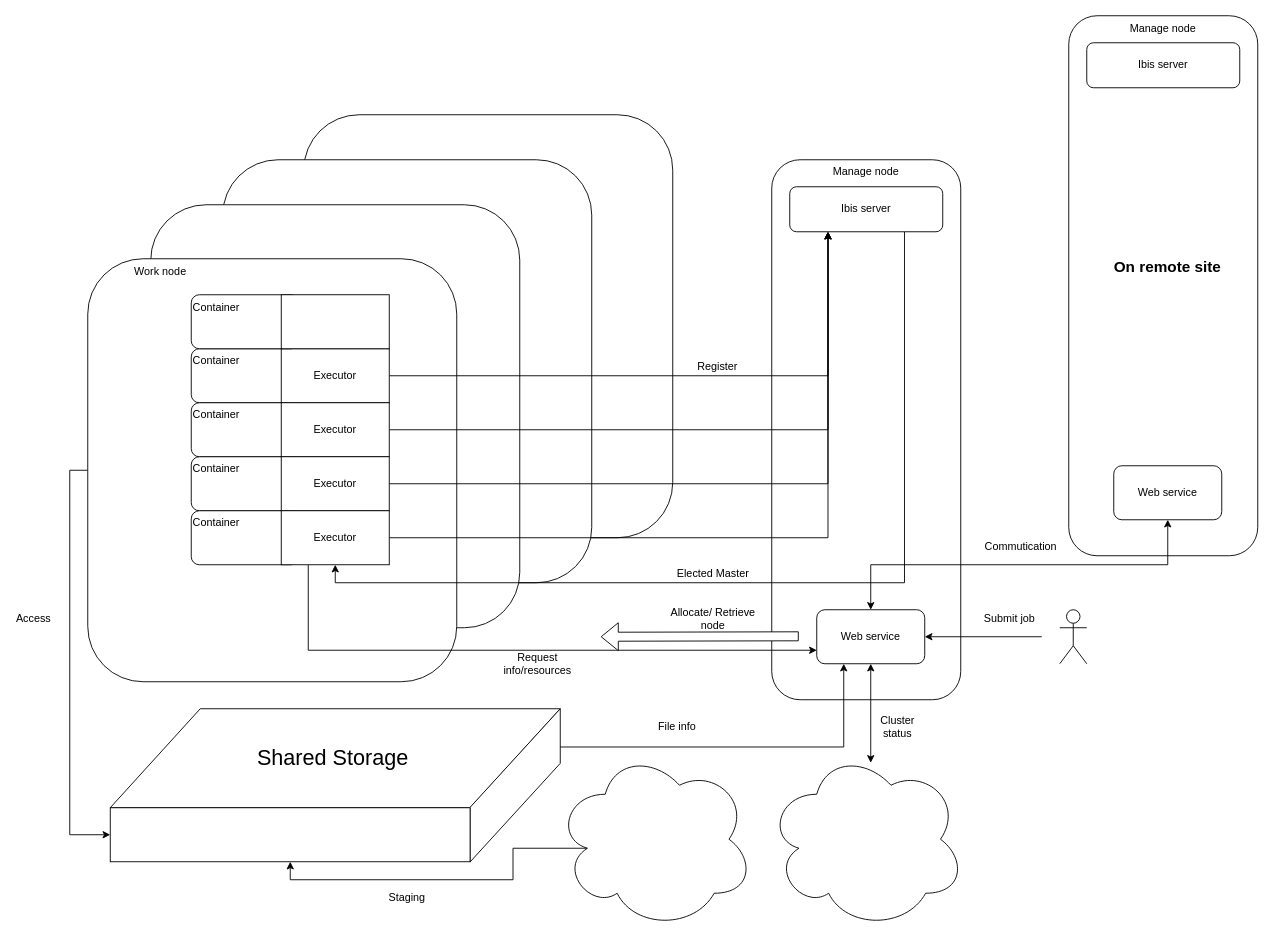
Some shapes in this 1274 by 945 pixel diagram are drawn without their labels. Here are the shapes that lost their labels. From the top down, the centre of each, then its label:
At [334,321]: "Zoo keeper".
At [1073,636]: "User".
At [654,838]: "Long Term Archive".
At [865,838]: "Local cluster".
